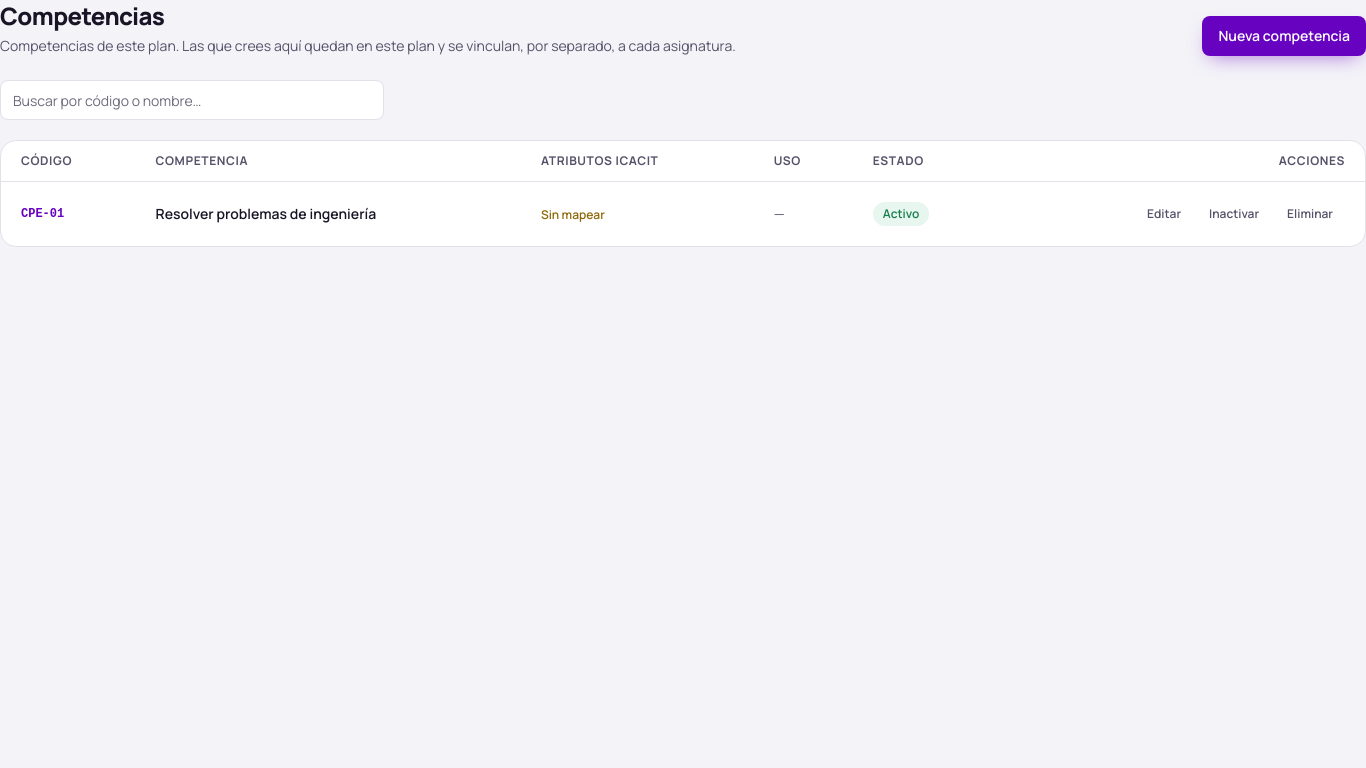
CompetenciasPage — atributos de la carrera del plan (Bloque 5) › el formulario pide los atributos del plan en curso, no los de todas las carreras
The image size is (1366, 768).
Click the button "Nueva competencia": x=1284, y=36 x1=1202 y1=16 x2=1365 y2=56
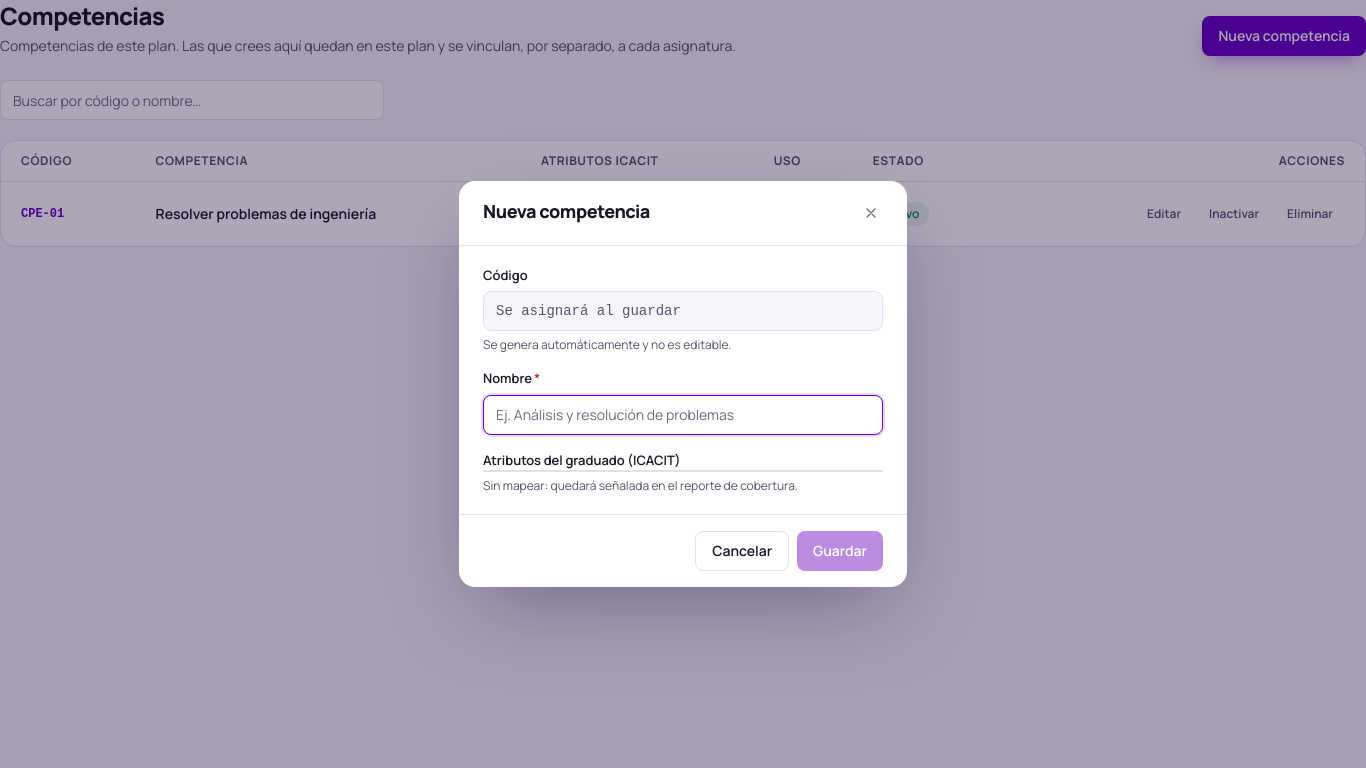
Result: the dialog "Nueva competencia" is shown at x1=459 y1=181 x2=907 y2=587
